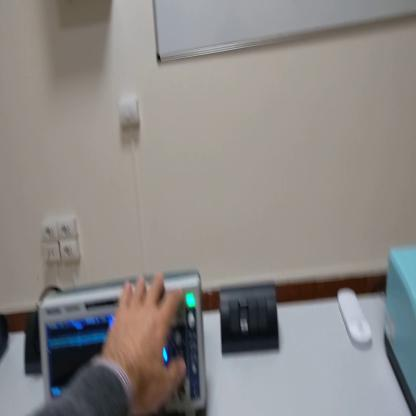hand: (102, 272, 189, 414)
oscilloscope: (38, 269, 211, 415)
socket: (24, 314, 43, 377), (1, 313, 11, 361)
welder station: (387, 246, 416, 415)
